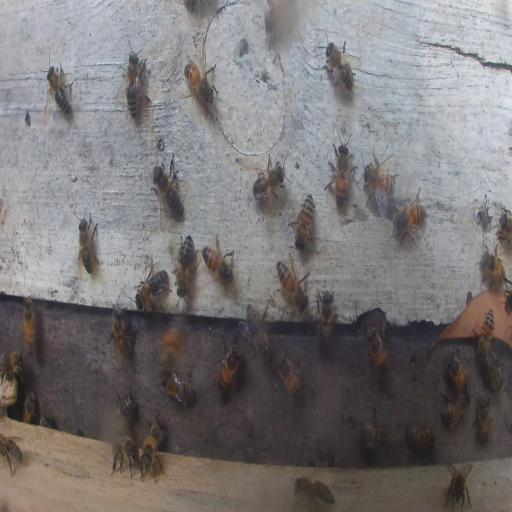nonpollenbee: (152, 154, 186, 221), (360, 153, 398, 211), (327, 125, 352, 211), (322, 38, 356, 95), (277, 252, 310, 310), (183, 55, 216, 113), (251, 158, 288, 208), (202, 236, 235, 291), (121, 40, 145, 115), (242, 304, 271, 360), (136, 261, 169, 310), (392, 195, 426, 242), (292, 474, 336, 510), (76, 208, 99, 276), (312, 289, 336, 350), (443, 464, 473, 512), (110, 306, 136, 361), (215, 338, 241, 393), (46, 65, 73, 117), (143, 414, 164, 480), (173, 232, 195, 293), (358, 411, 390, 452), (111, 435, 140, 478), (276, 351, 302, 397), (161, 371, 195, 406), (294, 194, 314, 247), (0, 432, 24, 476), (440, 392, 470, 427), (444, 352, 469, 393), (366, 324, 388, 370), (473, 396, 492, 446), (480, 246, 504, 285), (404, 423, 436, 452), (478, 306, 494, 359), (1, 351, 24, 385), (24, 297, 36, 356), (116, 387, 134, 416), (488, 356, 502, 392), (22, 391, 37, 424), (498, 209, 512, 244), (316, 447, 329, 464)
pollenbee: (160, 320, 186, 371)
